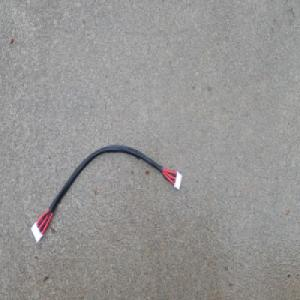Wire: (30, 143, 183, 244)
